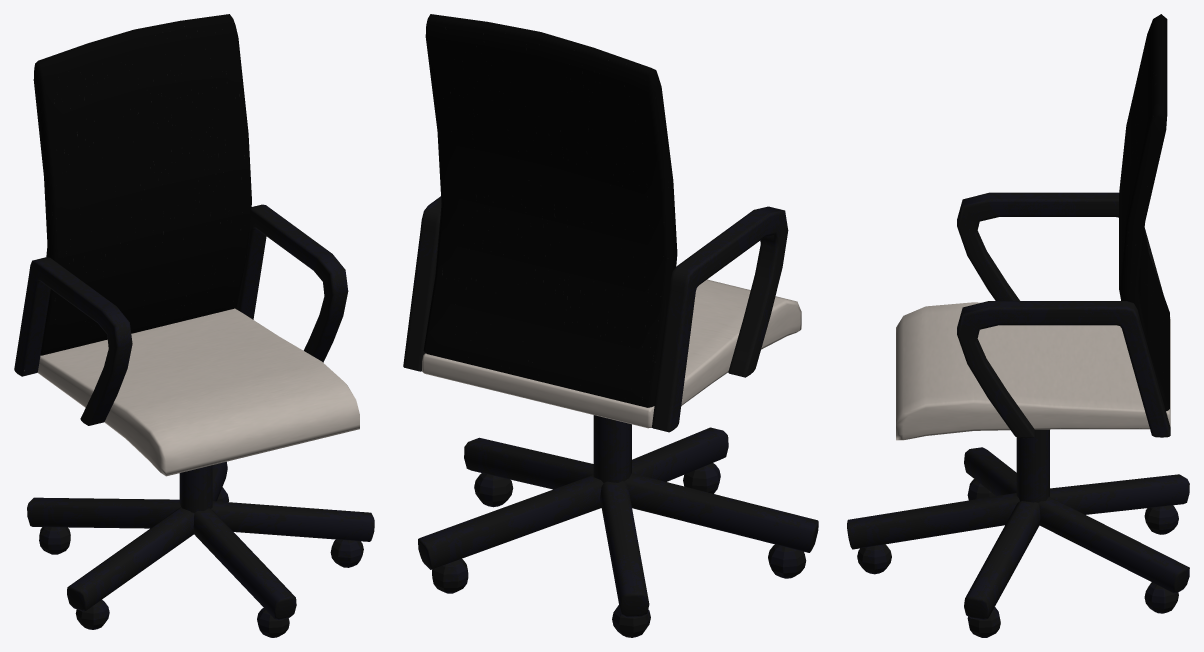
File: chair.glb
The picture shows the model from 3 angles, left to right: view 1: azimuth 30°, elevation 25°; view 2: azimuth 150°, elevation 25°; view 3: azimuth 270°, elevation 25°; orthographic projection. The views are drawn at different scales.
Visible parts, largest first — view 1: chair back, chair seat, chair arm_R, chair arm_L, legs chair leg leg_grp4, legs chair leg leg_grp5, legs chair leg leg_grp6, leg leg_grp legs chair, chair base, legs chair leg_grp4 wheel, legs chair leg_grp6 wheel, legs chair leg_grp5 wheel (+1 smaller); view 2: chair back, chair arm_R, chair seat, legs chair leg leg_grp5, legs chair leg leg_grp7, legs chair leg leg_grp6, legs chair leg leg_grp4, chair arm_L, leg leg_grp legs chair, chair base, legs chair leg_grp4 wheel, legs chair leg_grp5 wheel (+3 smaller); view 3: chair seat, chair back, chair arm_L, chair arm_R, leg leg_grp legs chair, legs chair leg leg_grp7, legs chair leg leg_grp6, legs chair leg leg_grp4, chair base, legs chair leg leg_grp5, legs chair leg_grp6 wheel, leg_grp legs chair wheel (+2 smaller).
Part boxes in pixels (x1,y1,x2,y2): chair back: (33,14,251,355); chair seat: (37,308,359,476); chair arm_R: (14,257,132,425); chair arm_L: (235,204,348,362); legs chair leg leg_grp4: (211,501,374,541); legs chair leg leg_grp5: (67,507,194,611); legs chair leg leg_grp6: (27,497,180,528); leg leg_grp legs chair: (193,508,296,620); chair base: (179,465,212,512); legs chair leg_grp4 wheel: (330,539,363,567); legs chair leg_grp6 wheel: (39,527,70,554); legs chair leg_grp5 wheel: (75,600,109,629); chair back: (423,14,677,407); chair arm_R: (652,206,788,432); chair seat: (422,279,801,428); legs chair leg leg_grp5: (625,473,818,552); legs chair leg leg_grp7: (418,475,603,569); legs chair leg leg_grp6: (600,481,649,617); legs chair leg leg_grp4: (464,437,593,489); chair arm_L: (403,196,441,371); leg leg_grp legs chair: (632,427,728,481); chair base: (593,415,631,482); legs chair leg_grp4 wheel: (474,473,513,507); legs chair leg_grp5 wheel: (768,544,806,578); chair seat: (896,302,1170,440); chair back: (1119,14,1169,411); chair arm_L: (957,301,1170,438); chair arm_R: (957,192,1163,300); leg leg_grp legs chair: (847,493,1019,549); legs chair leg leg_grp7: (1038,496,1189,593); legs chair leg leg_grp6: (1050,474,1189,514); legs chair leg leg_grp4: (964,501,1040,620); chair base: (1016,429,1049,502); legs chair leg leg_grp5: (964,447,1016,495); legs chair leg_grp6 wheel: (1144,505,1178,534); leg_grp legs chair wheel: (857,544,891,574).
Size of the model in its own units: 0.0399 by 0.0636 by 0.0381.
1 material, 1 textured.
